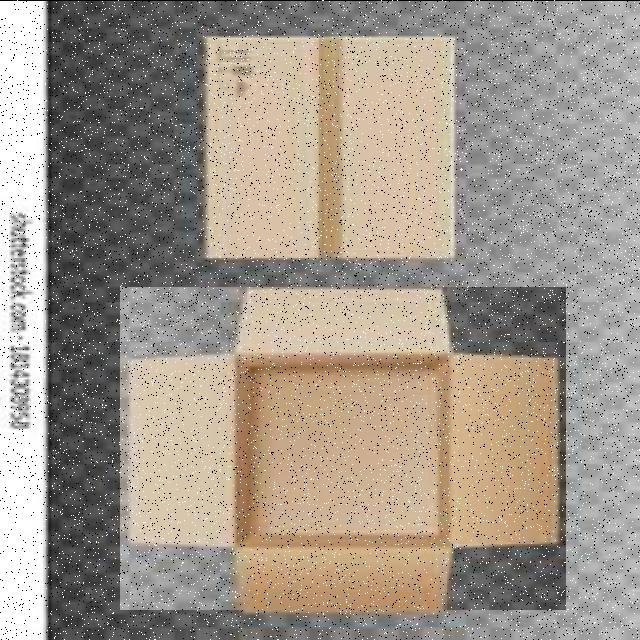defect: (120, 286, 566, 609)
normal: (202, 32, 470, 260)
